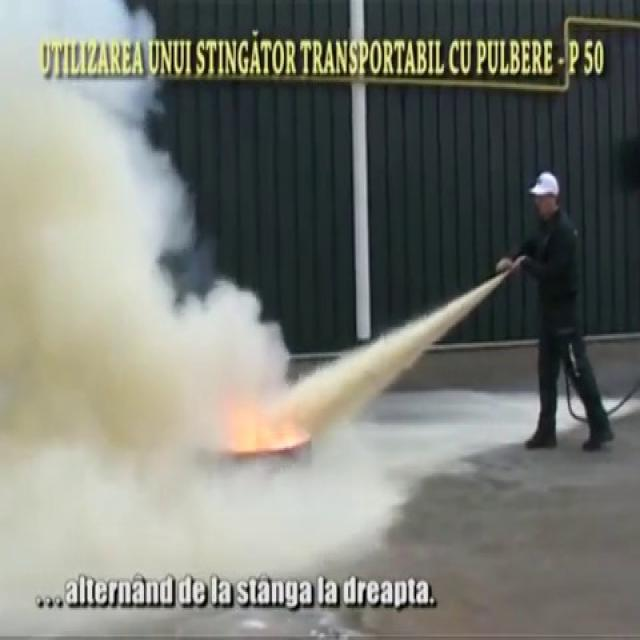Smoke: (0, 1, 280, 515)
